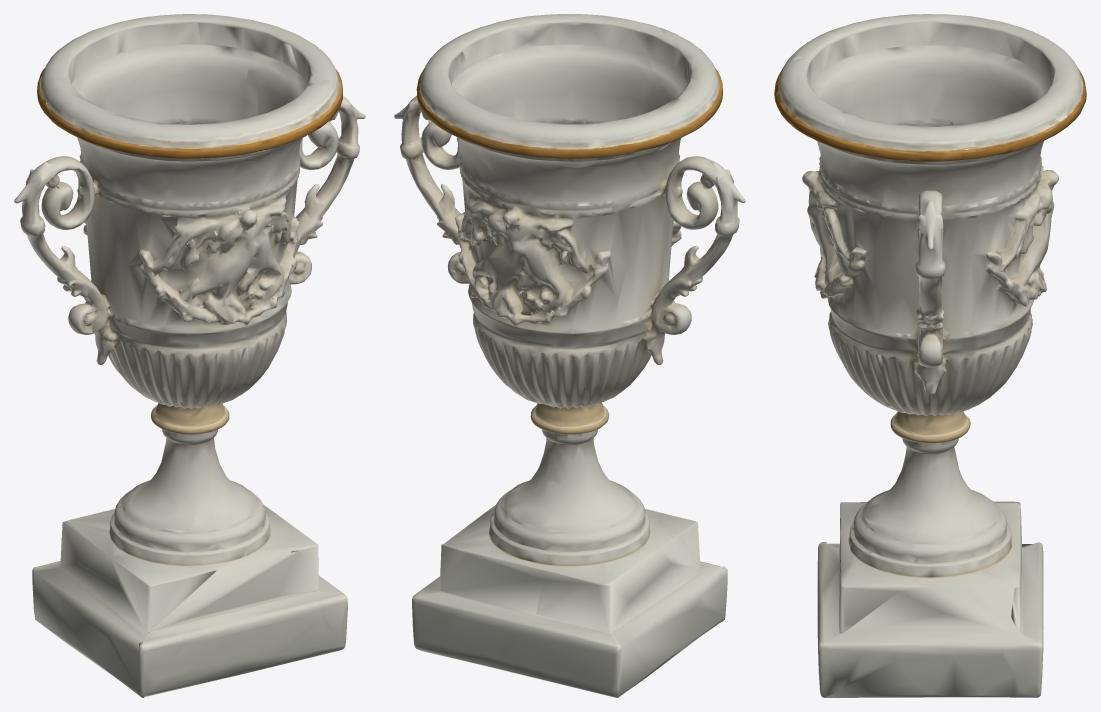
Rendered from urn.glb.
The picture shows the model from 3 angles, left to right: view 1: azimuth 30°, elevation 25°; view 2: azimuth 150°, elevation 25°; view 3: azimuth 270°, elevation 25°; orthographic projection. The views are drawn at different scales.
Size of the model in its own units: 1.24 by 1.91 by 0.9389.
1 material, 1 textured.
